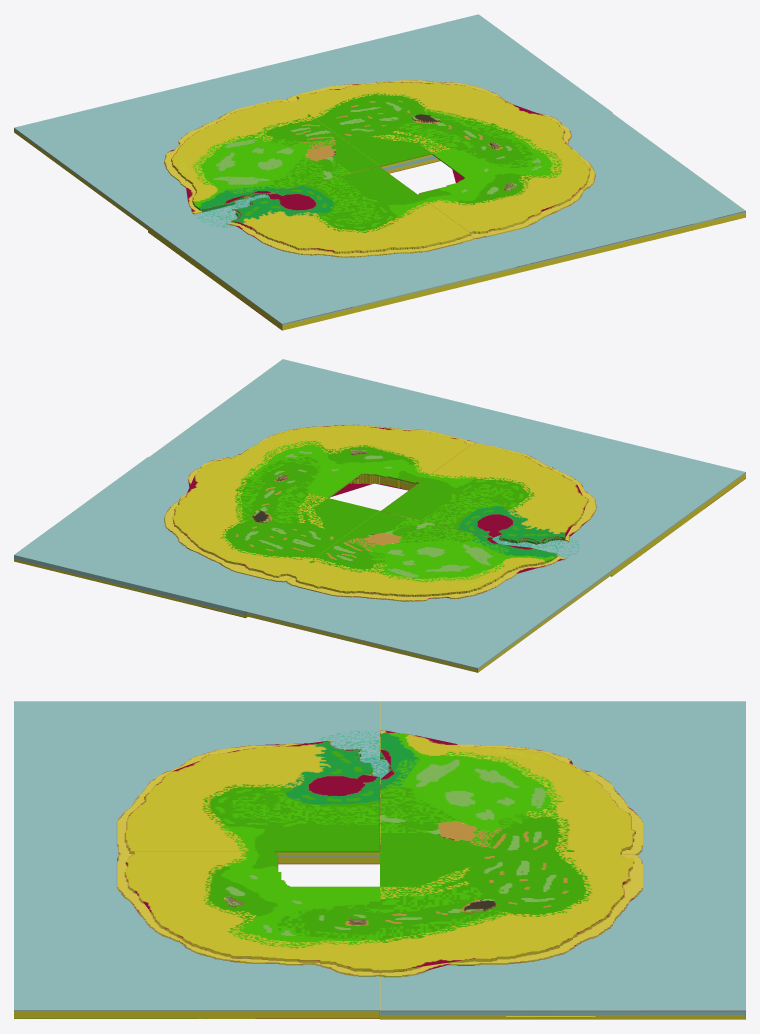
The model's file is Iland Plane 1.fbx.
3 renders of one model, top to bottom at view 1: azimuth 30°, elevation 25°; view 2: azimuth 150°, elevation 25°; view 3: azimuth 270°, elevation 25°, orthographic. The views are drawn at different scales.
Visible parts, largest first — view 1: Untitled.001; view 2: Untitled.001; view 3: Untitled.001.
Boxes of the visible parts, x1,y1,x2,y2 form: Untitled.001: [14, 14, 745, 330]; Untitled.001: [14, 359, 745, 672]; Untitled.001: [14, 701, 745, 1019].
Bounding box in the file's own units: 5120 × 120 × 5120.
1 material, 1 textured.
